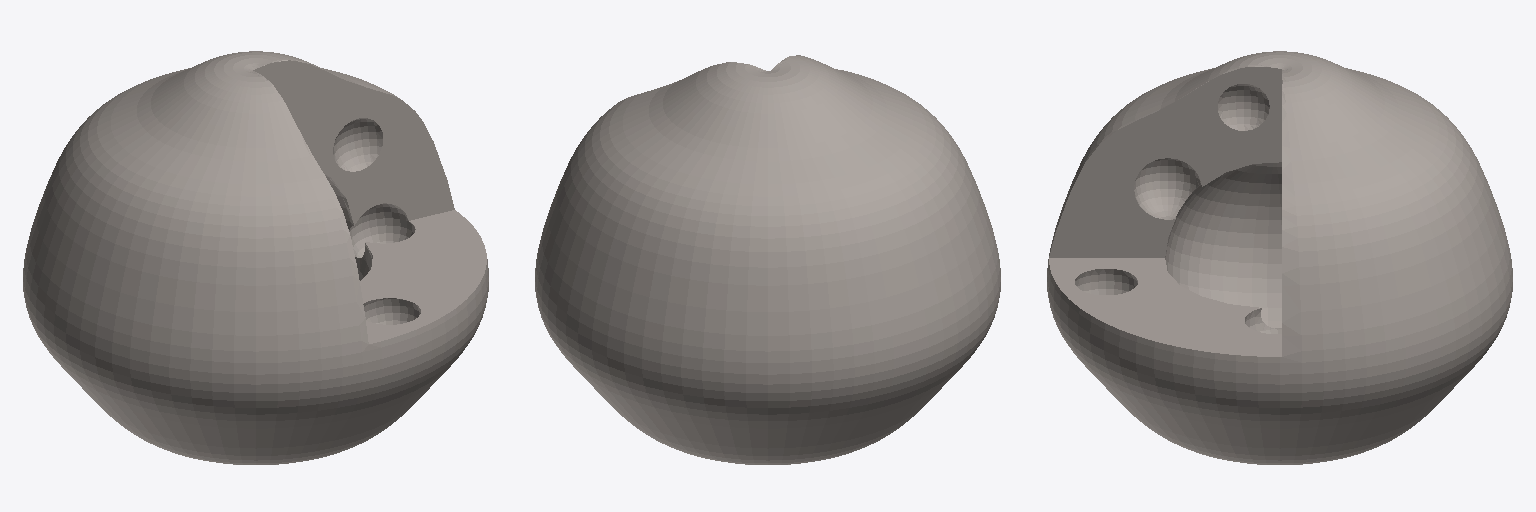
Rendered from porous_nis-ni3s2_hollow_nanoparticle.obj.
3 views of the same model, side by side, from view 1: azimuth 30°, elevation 25°; view 2: azimuth 150°, elevation 25°; view 3: azimuth 270°, elevation 25° (orthographic).
Parts seen in each view (by area): view 1: mesh 1 unregular sphere-1; view 2: mesh 1 unregular sphere-1; view 3: mesh 1 unregular sphere-1.
Part boxes in pixels (x1,y1,x2,y2): mesh 1 unregular sphere-1: (23,51,488,464); mesh 1 unregular sphere-1: (535,55,1000,464); mesh 1 unregular sphere-1: (1047,51,1512,464).
Size of the model in its own units: 0.0773 by 0.0689 by 0.0772.